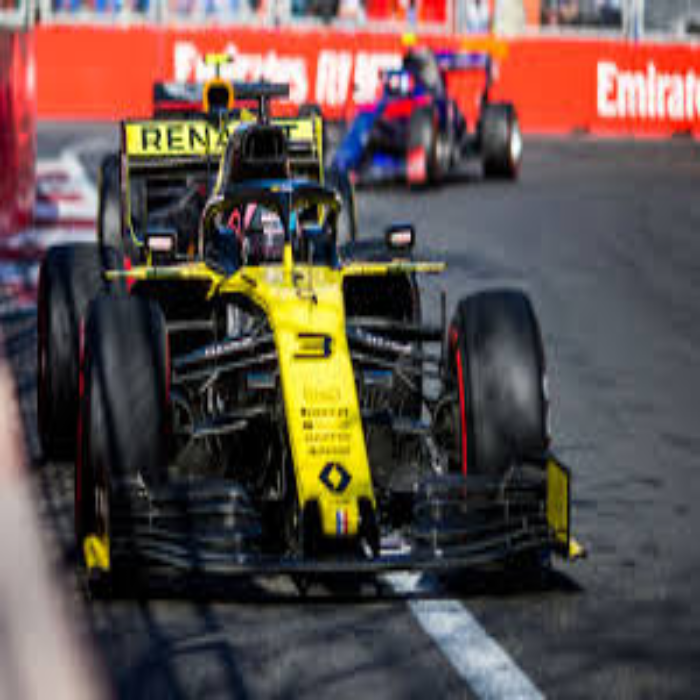f1_car: (31, 86, 592, 638)
